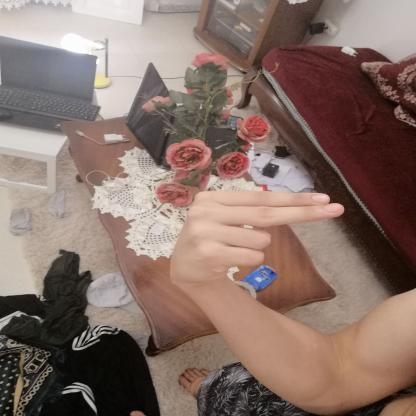AYN: (154, 177, 362, 298)
